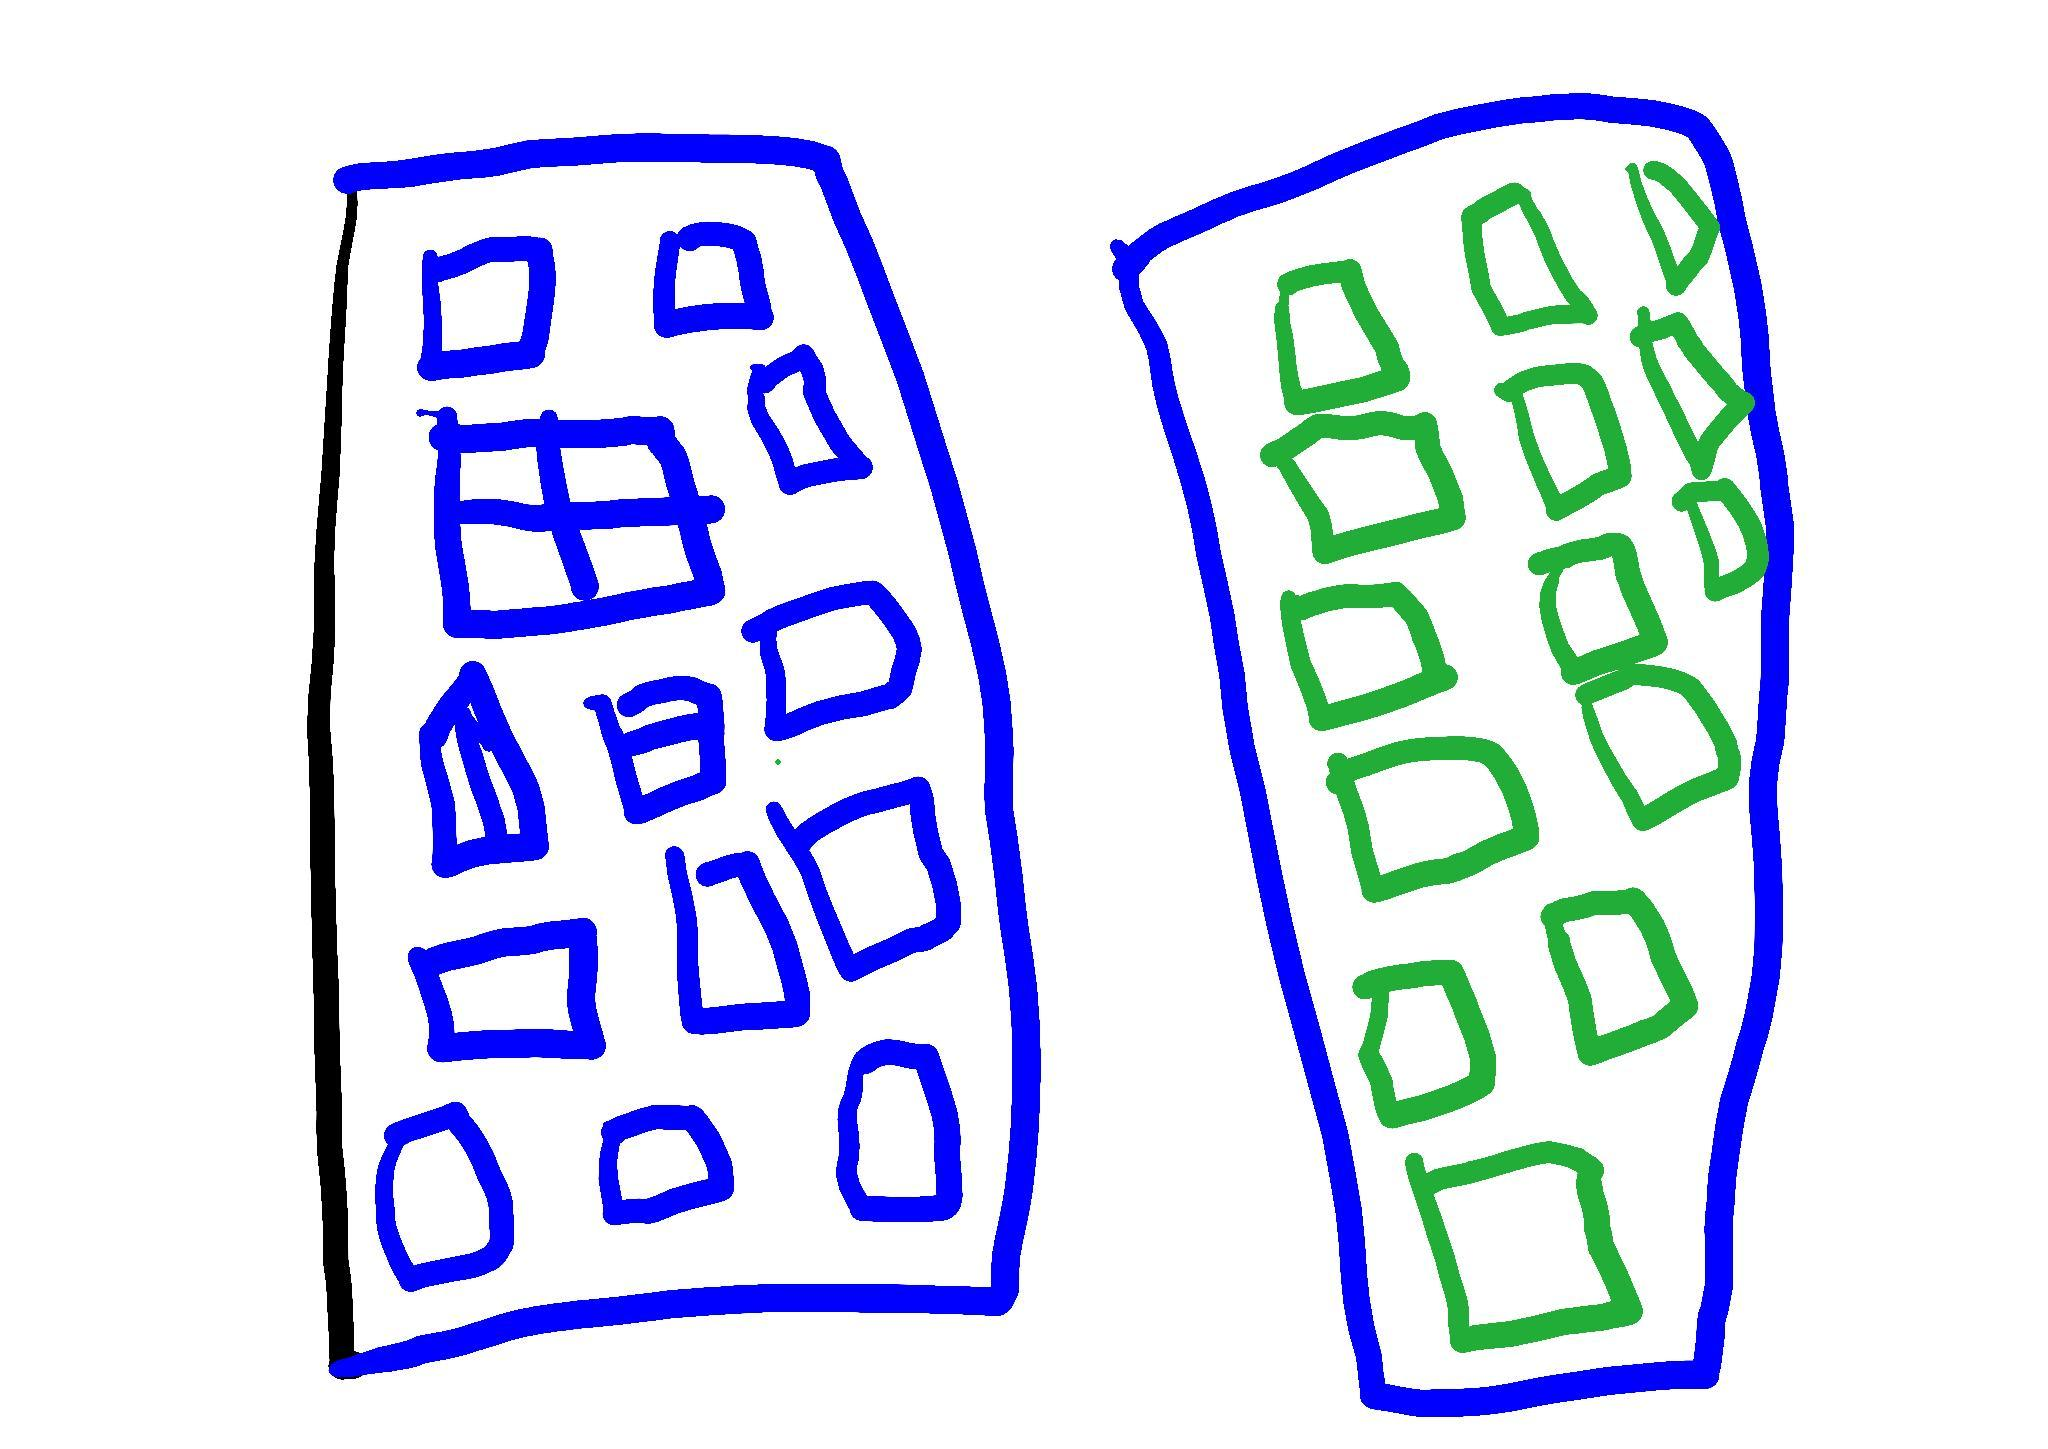house: (309, 133, 1040, 1377), (1115, 93, 1796, 1418)
wall: (307, 133, 1040, 1378), (1115, 93, 1796, 1418)
window: (417, 408, 724, 637), (1408, 1145, 1645, 1355), (765, 779, 961, 982), (1328, 735, 1541, 902), (1262, 411, 1466, 563), (419, 662, 547, 878), (408, 921, 604, 1062), (1543, 892, 1701, 1066), (1579, 665, 1744, 830), (665, 848, 809, 1035), (1283, 583, 1458, 731), (375, 1104, 511, 1294), (1355, 961, 1494, 1129), (836, 1041, 963, 1225), (1632, 306, 1758, 478), (1498, 361, 1634, 517), (1531, 533, 1670, 682), (1276, 259, 1411, 412), (583, 676, 724, 822), (416, 234, 555, 379), (1465, 180, 1598, 332), (746, 343, 870, 492), (597, 1109, 732, 1226), (652, 220, 772, 336), (1631, 158, 1722, 293), (778, 607, 892, 712), (1676, 478, 1772, 599)
